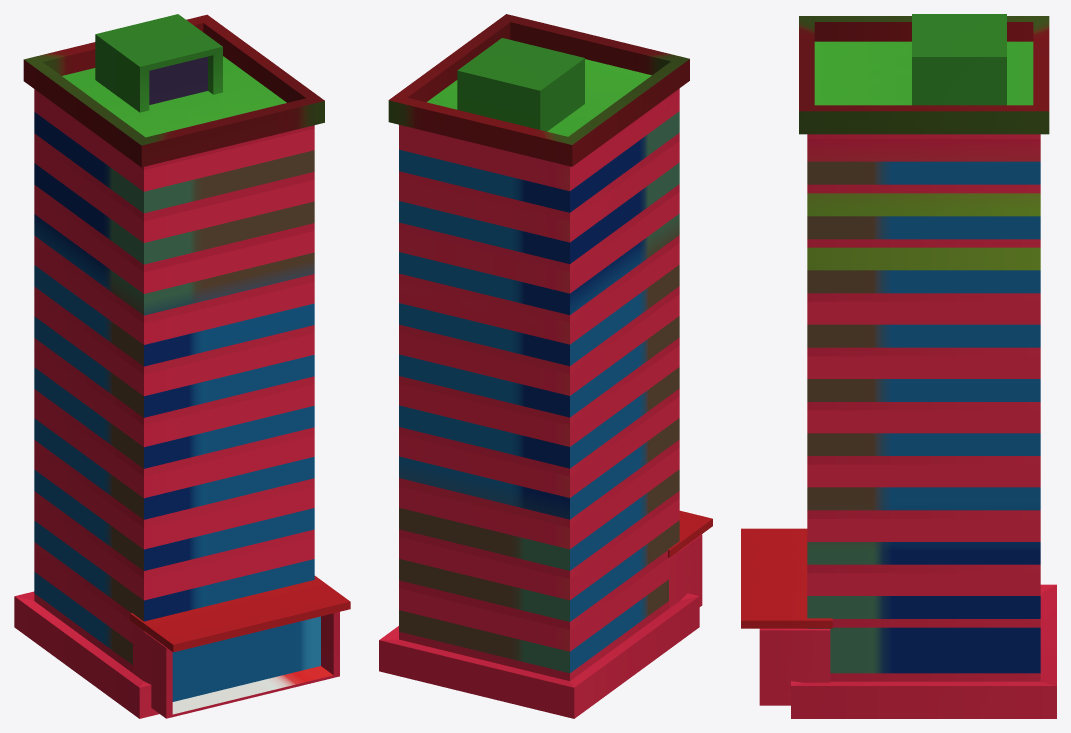
Rendered from Building7.fbx.
3 renders of one model, left to right at view 1: azimuth 30°, elevation 25°; view 2: azimuth 150°, elevation 25°; view 3: azimuth 270°, elevation 25°, orthographic. The views are drawn at different scales.
Visible parts, largest first — view 1: Building7; view 2: Building7; view 3: Building7.
Part boxes in pixels (left/top/right/bottom): Building7: left=14, top=14, right=350, bottom=718; Building7: left=379, top=14, right=712, bottom=718; Building7: left=741, top=14, right=1056, bottom=718.
Bounding box in the file's own units: 150 × 437 × 198.
